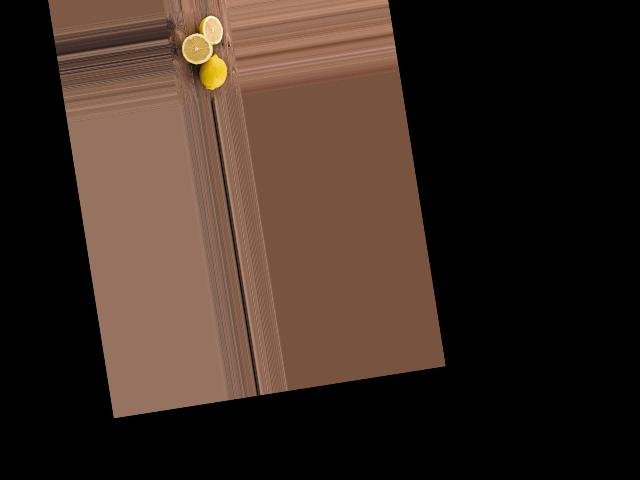lemon: (195, 51, 233, 90)
